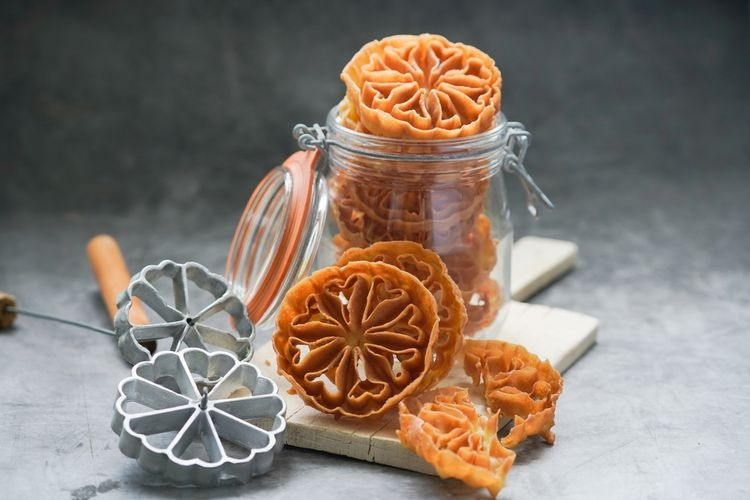kembang_goyang: (262, 253, 446, 407), (350, 31, 489, 140)
